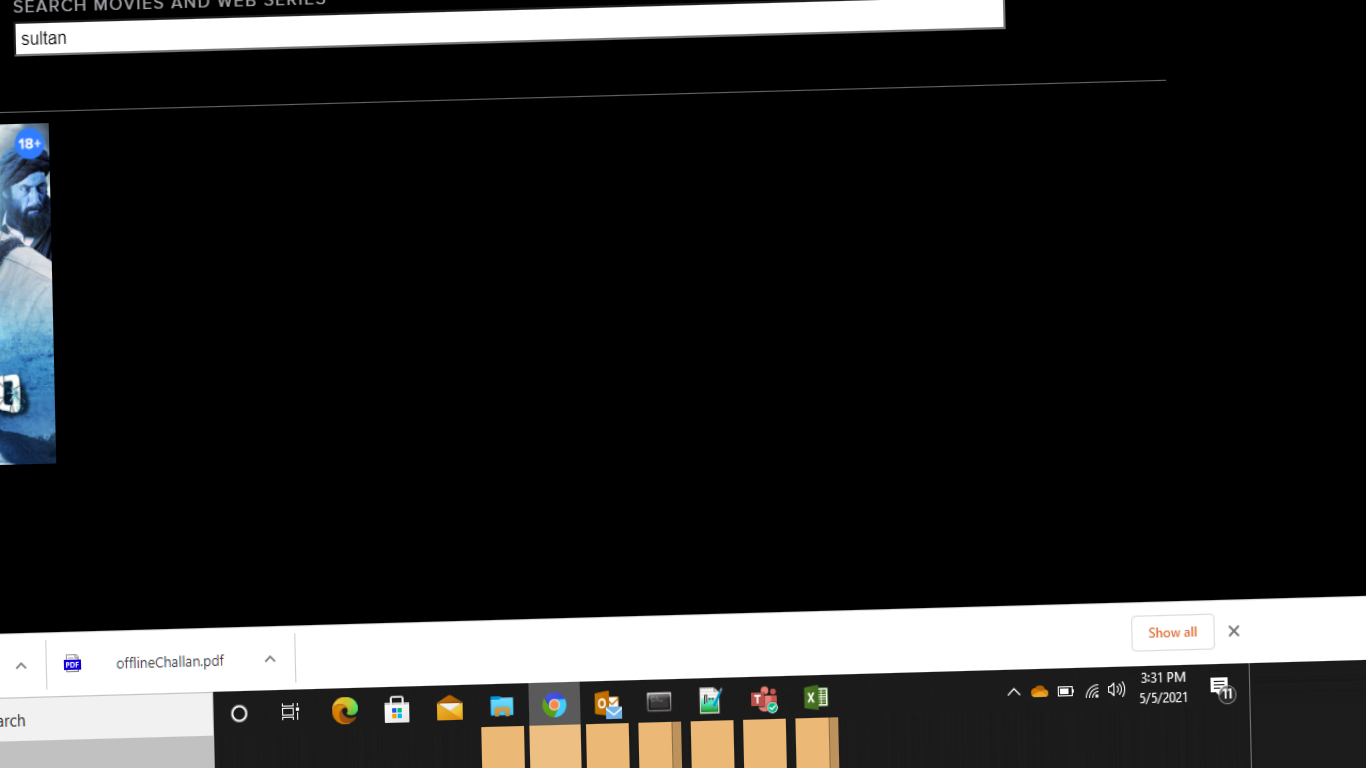searchtextbox: (15, 3, 1012, 59)
